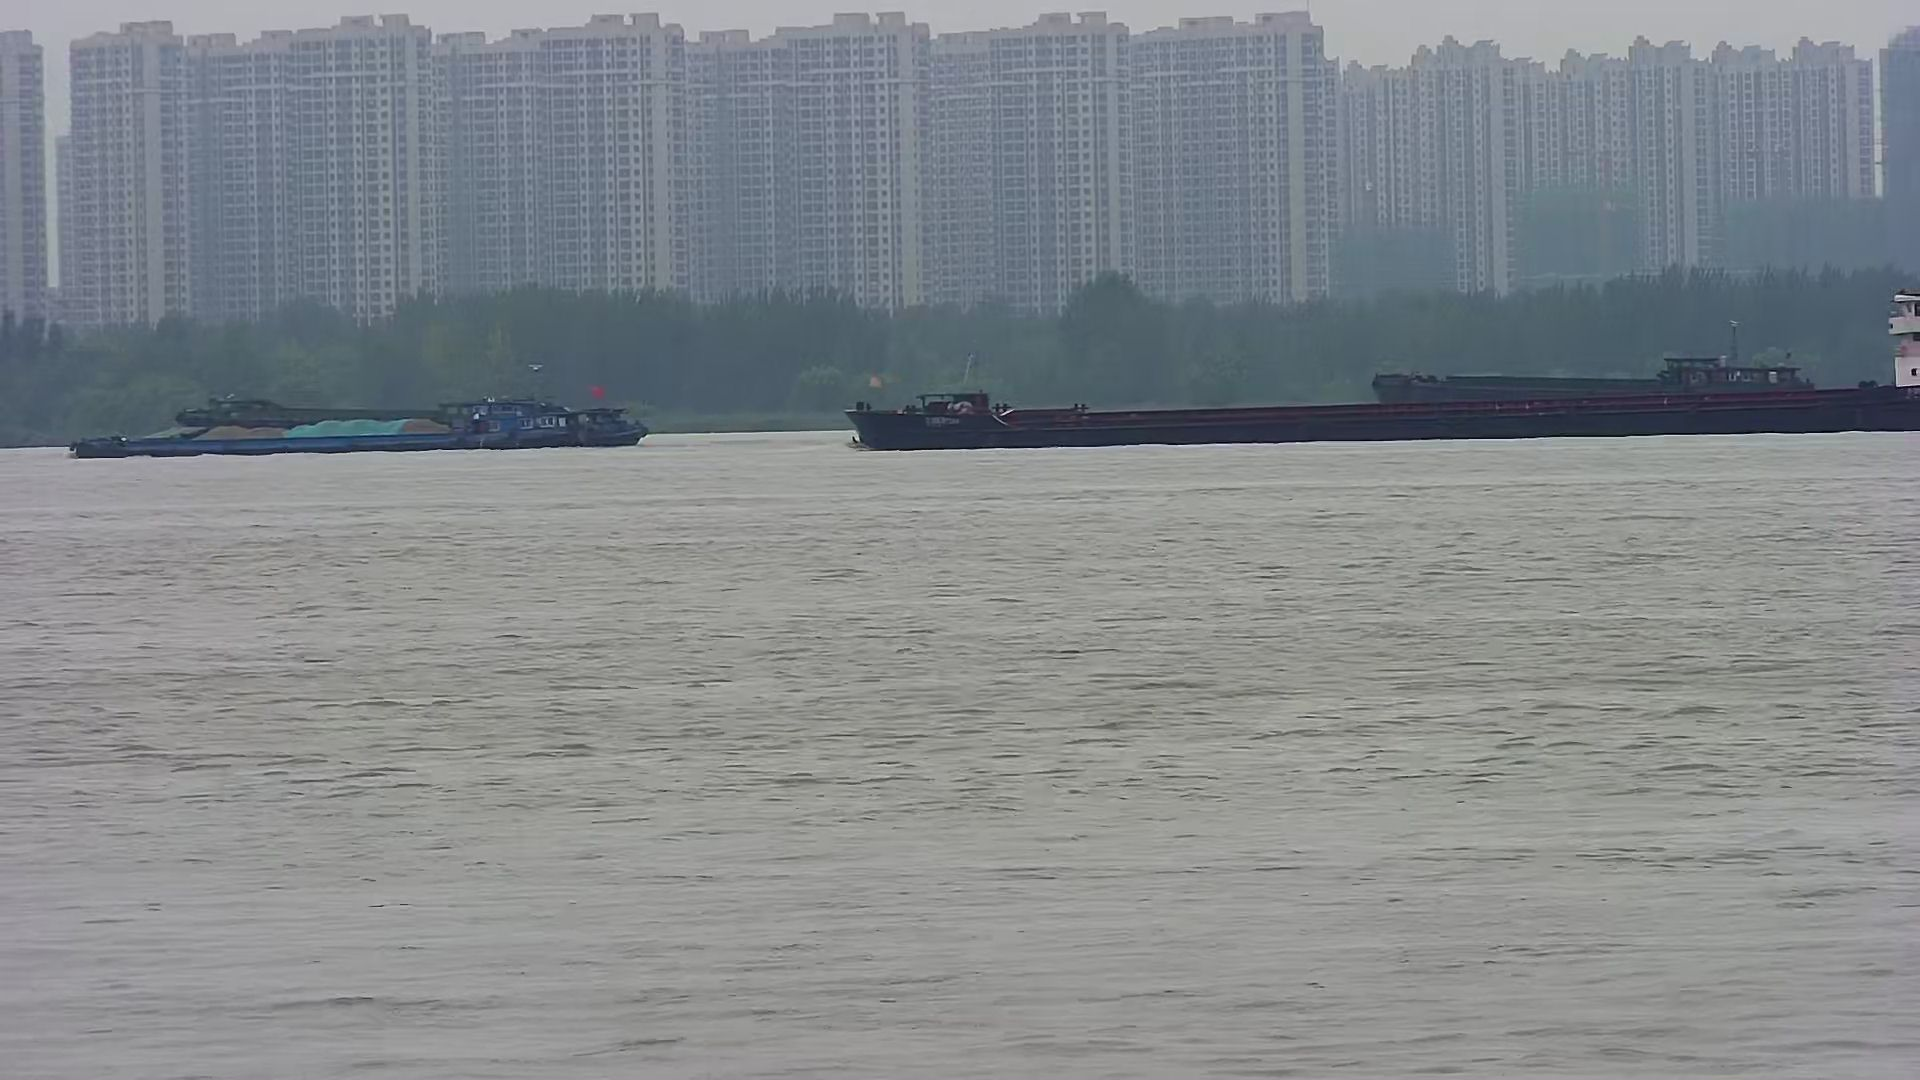ship: (848, 294, 1920, 448), (67, 382, 651, 462), (1374, 355, 1883, 417)
